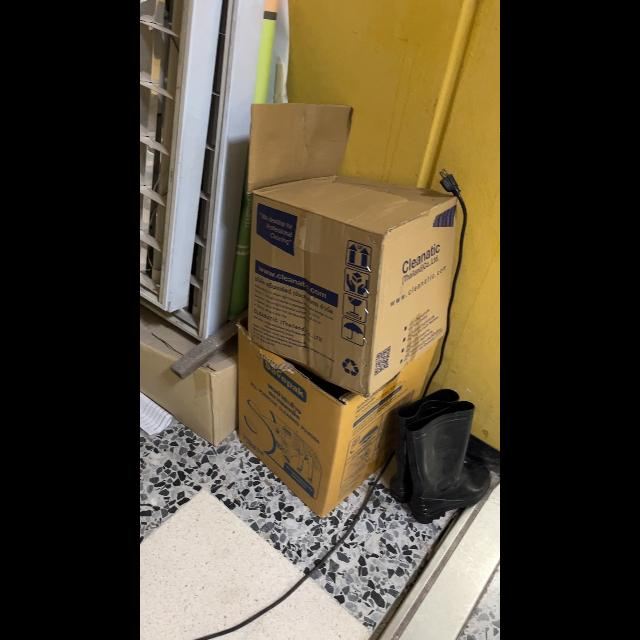cardboard_box: (246, 102, 462, 396), (237, 315, 438, 513)
